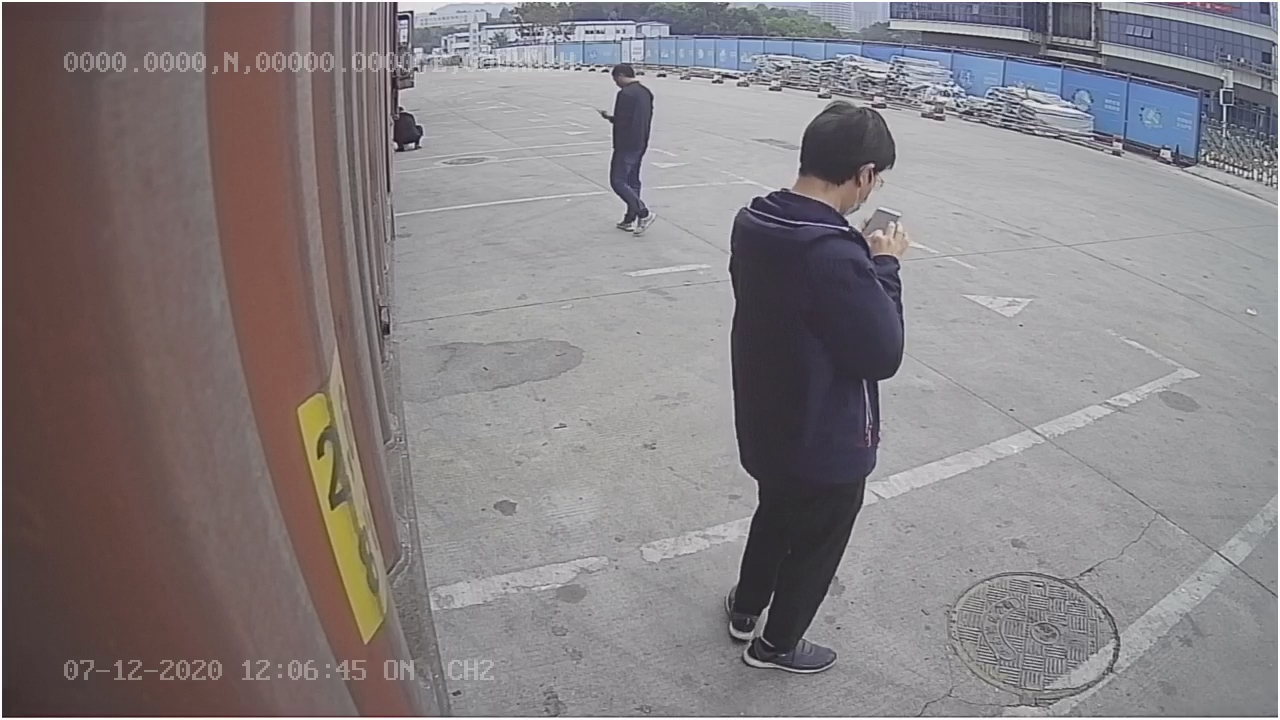person: (715, 94, 909, 674)
